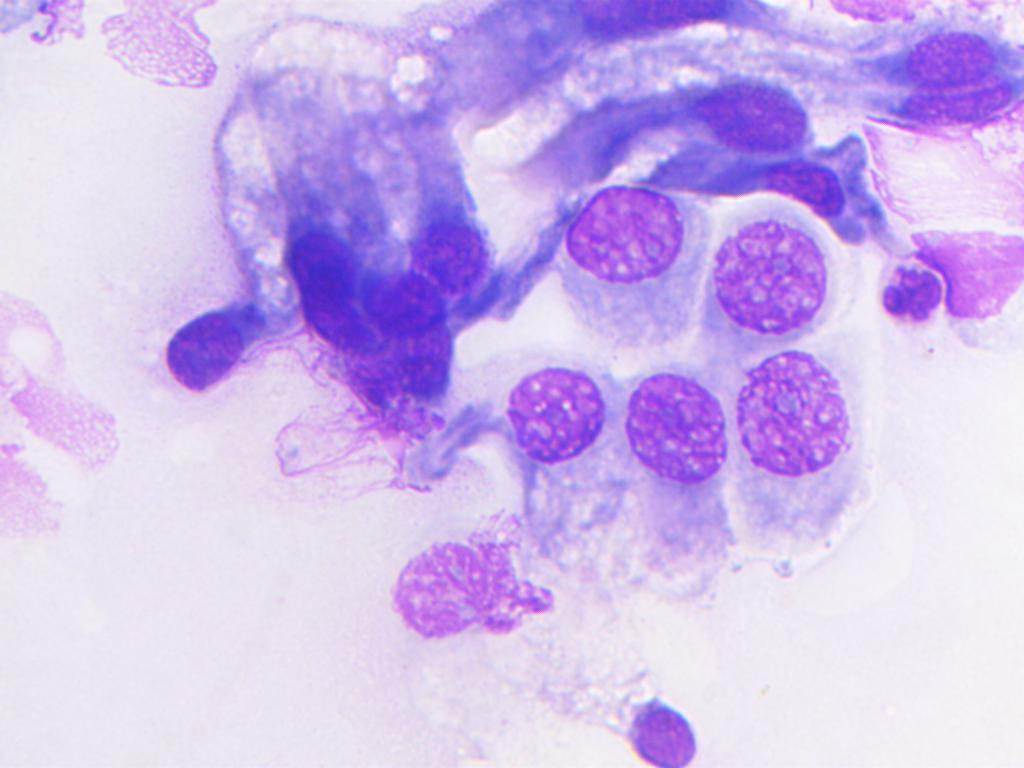artifact: (382, 536, 532, 628)
epithelial: (740, 351, 874, 581), (555, 179, 712, 351), (620, 363, 735, 595), (494, 351, 624, 551), (699, 208, 835, 358), (151, 294, 280, 419), (273, 218, 380, 368), (679, 76, 831, 160), (358, 254, 463, 360), (863, 24, 1015, 85), (414, 207, 501, 306), (879, 78, 1024, 137), (727, 159, 847, 227)
goblet_cell: (528, 653, 712, 764)
neutrophil: (860, 251, 951, 331)
